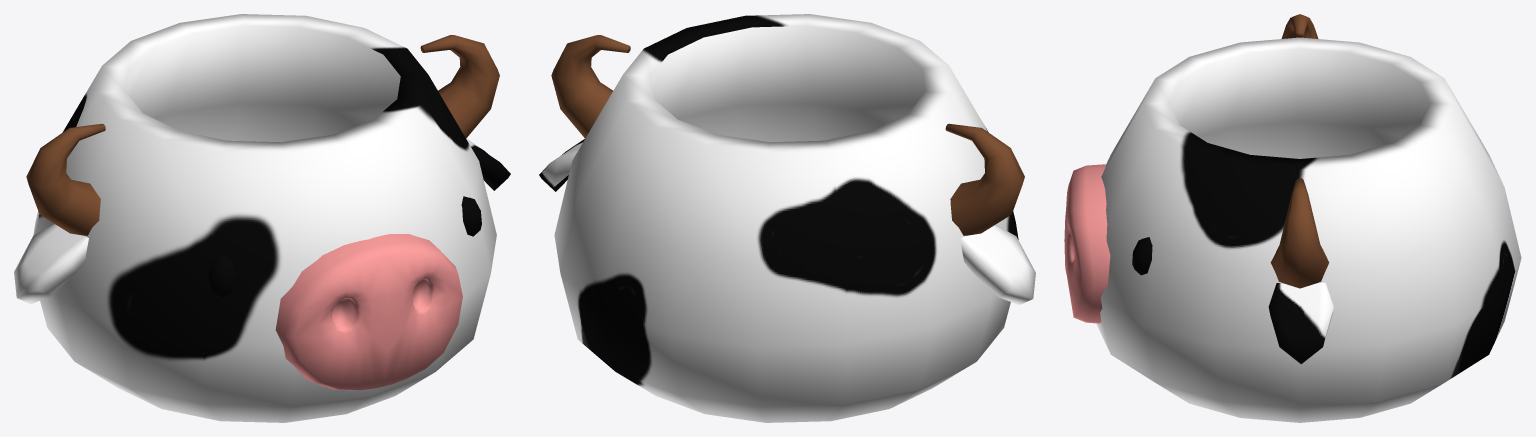
The model's file is saucepan.fbx.
The picture shows the model from 3 angles, left to right: view 1: azimuth 30°, elevation 25°; view 2: azimuth 150°, elevation 25°; view 3: azimuth 270°, elevation 25°; orthographic projection. The views are drawn at different scales.
Parts seen in each view (by area): view 1: saucepan; view 2: saucepan; view 3: saucepan.
Boxes of the visible parts, x1,y1,x2,y2 form: saucepan: (14, 14, 510, 422); saucepan: (539, 14, 1035, 422); saucepan: (1064, 14, 1521, 422).
Size of the model in its own units: 0.3614 by 0.2039 by 0.3097.
